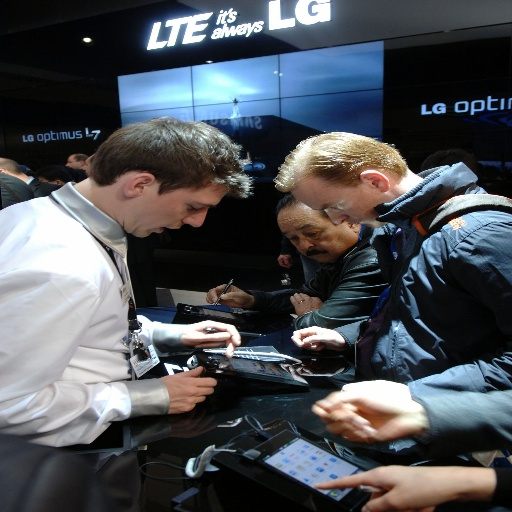hand: (326, 462, 497, 507), (308, 388, 428, 442), (157, 363, 218, 416), (178, 318, 243, 359), (286, 325, 349, 352), (203, 283, 253, 309), (335, 379, 409, 394), (288, 292, 322, 316), (275, 254, 291, 270)
